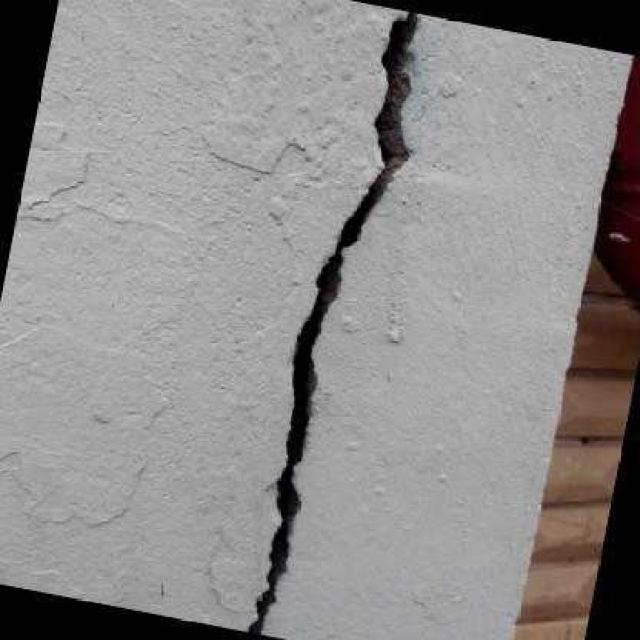D00: (238, 9, 424, 636)
